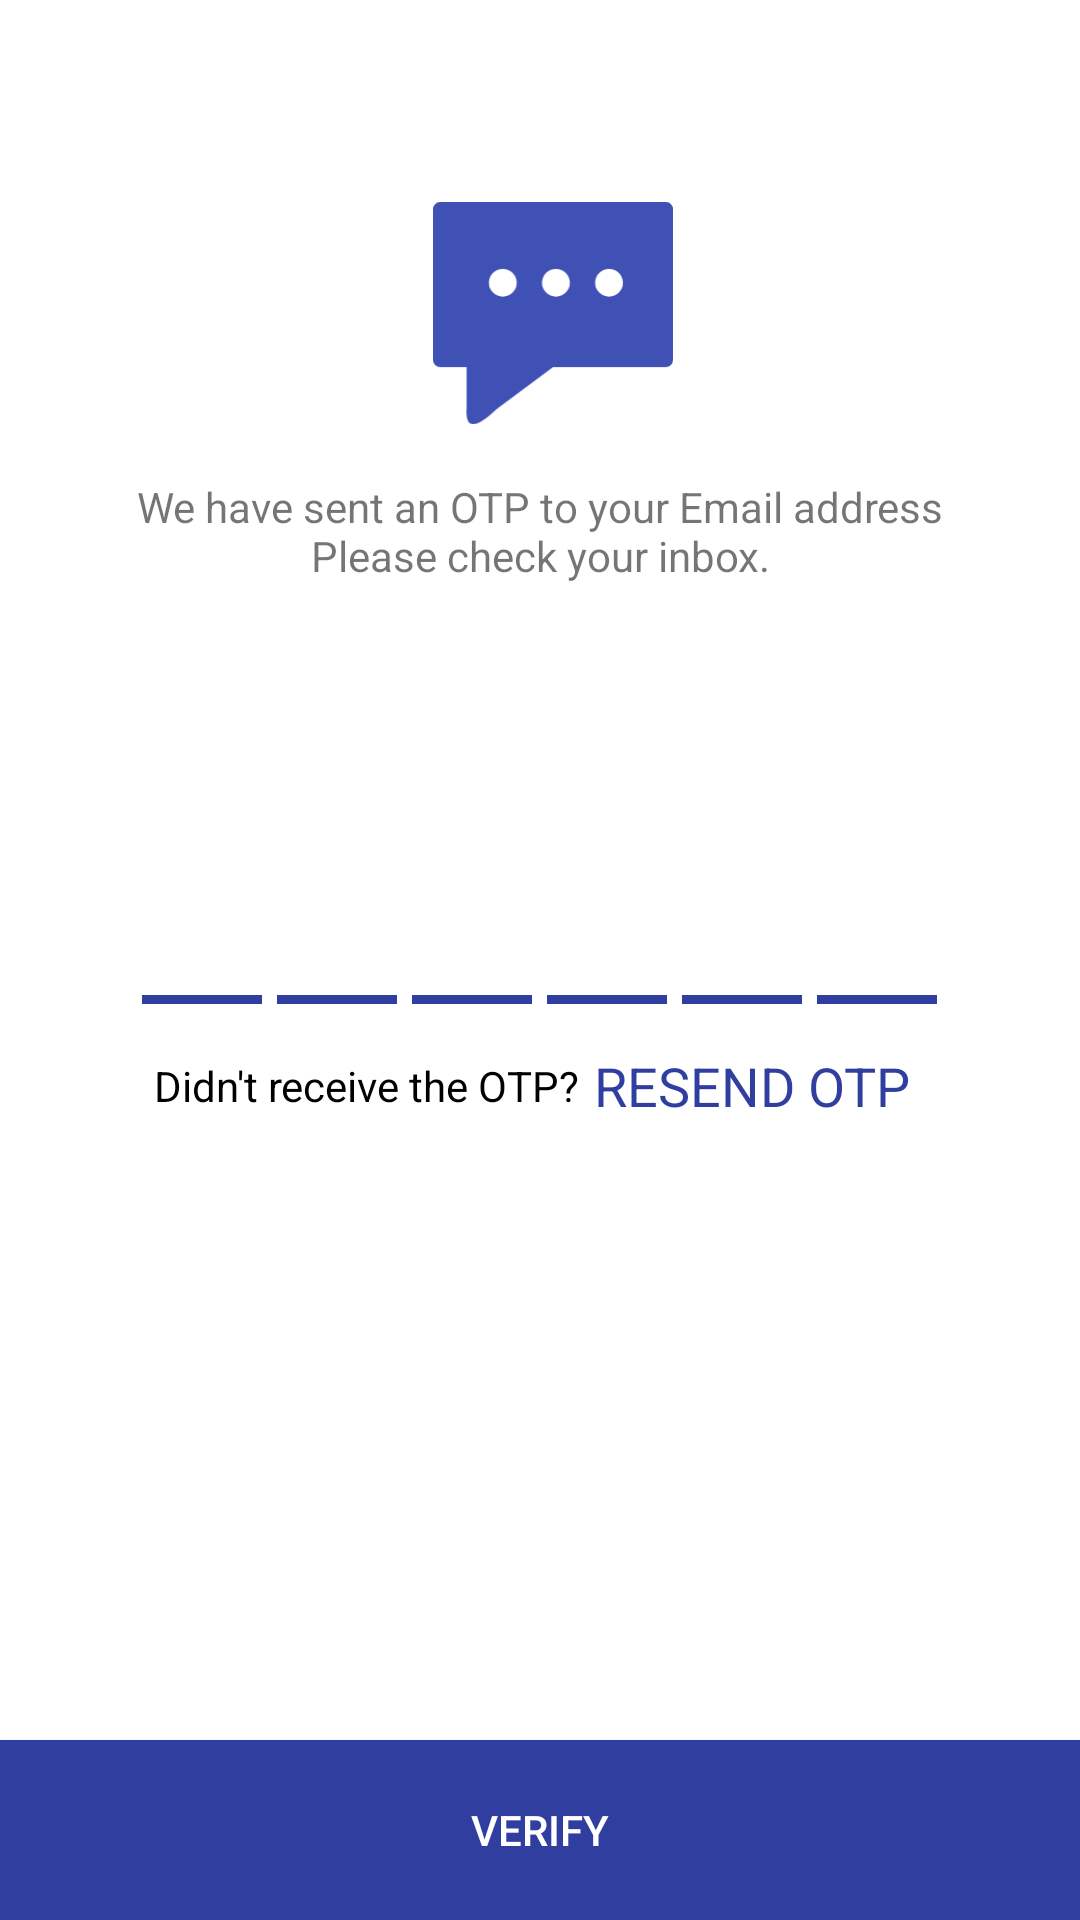

Where to tap for icons on this 1080px x 1920px app screen, as (x,y):
message bubble: (553,313)
